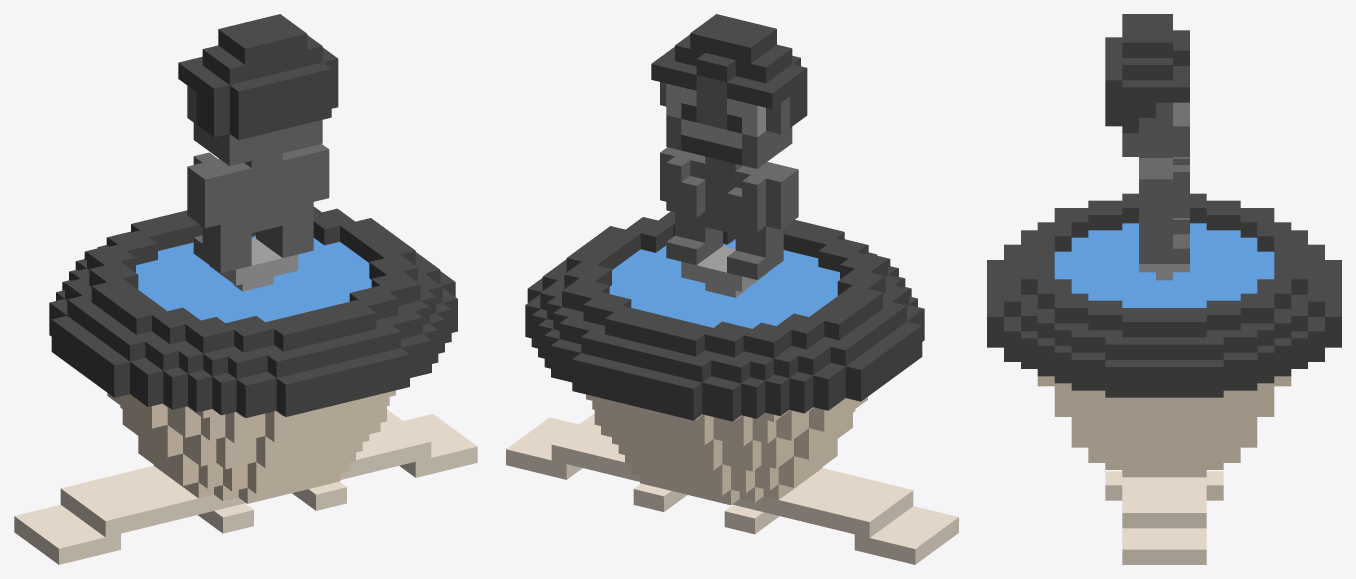
The model's file is estatuazeca.obj.
The picture shows the model from 3 angles, left to right: view 1: azimuth 30°, elevation 25°; view 2: azimuth 150°, elevation 25°; view 3: azimuth 270°, elevation 25°; orthographic projection. The views are drawn at different scales.
Bounding box in the file's own units: 2.7 × 2.9 × 2.1.
1 material, 1 textured.
